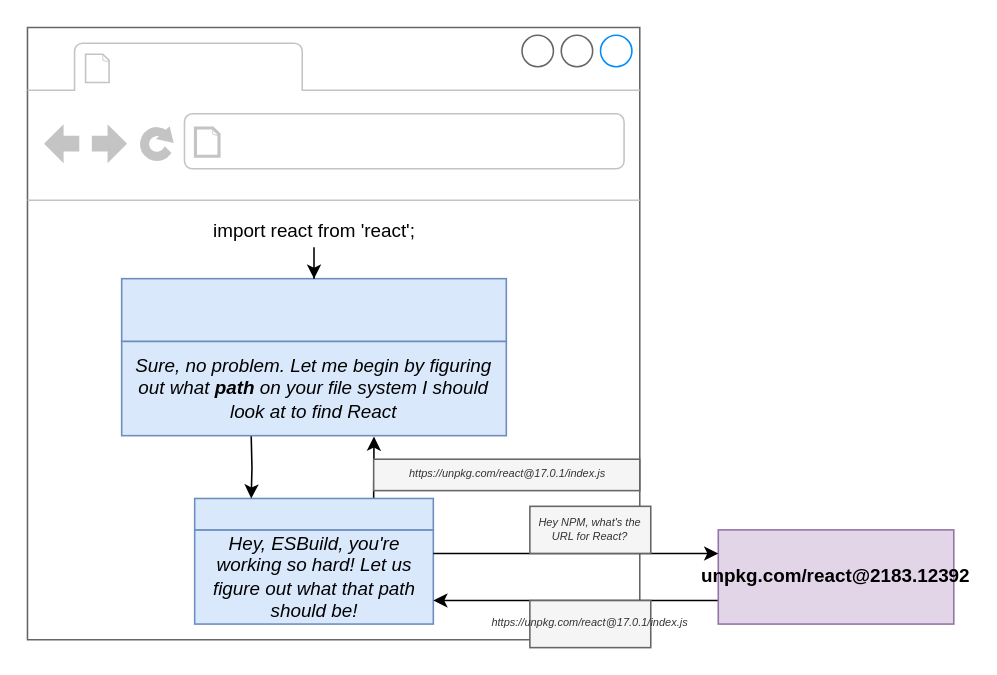
Some shapes in this 997 by 675 pixel diagram are drawn without their labels. The shapes that lost their labels are listed below. From the top down, each one's centre as x and y in pixels, then its label:
pixel 207 66: Page 1
pixel 313 309: ESBuild Transpile + Bundle
pixel 313 513: You and me
